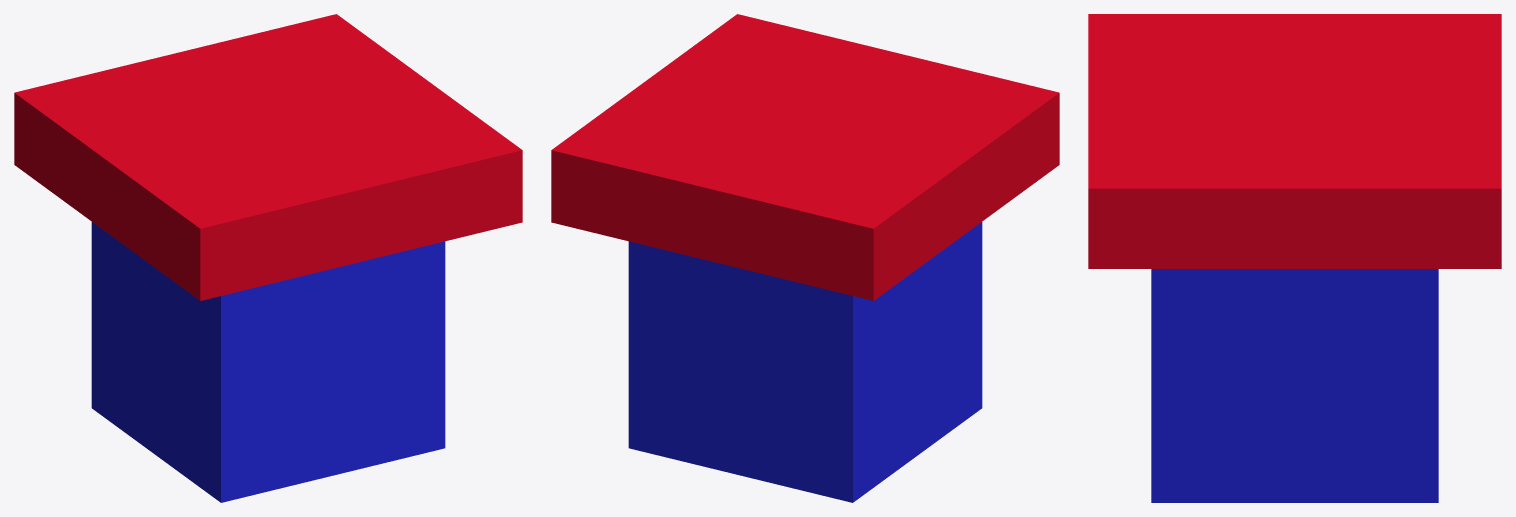
File: asset.glb
3 views of the same model, side by side, from view 1: azimuth 30°, elevation 25°; view 2: azimuth 150°, elevation 25°; view 3: azimuth 270°, elevation 25° (orthographic). The views are drawn at different scales.
Visible parts, largest first — view 1: Cube; view 2: Cube; view 3: Cube.
Part boxes in pixels (x1,y1,x2,y2): Cube: [14, 14, 522, 502]; Cube: [551, 14, 1059, 502]; Cube: [1088, 14, 1501, 502].
Bounding box in the file's own units: 2.88 × 2.62 × 2.88.
